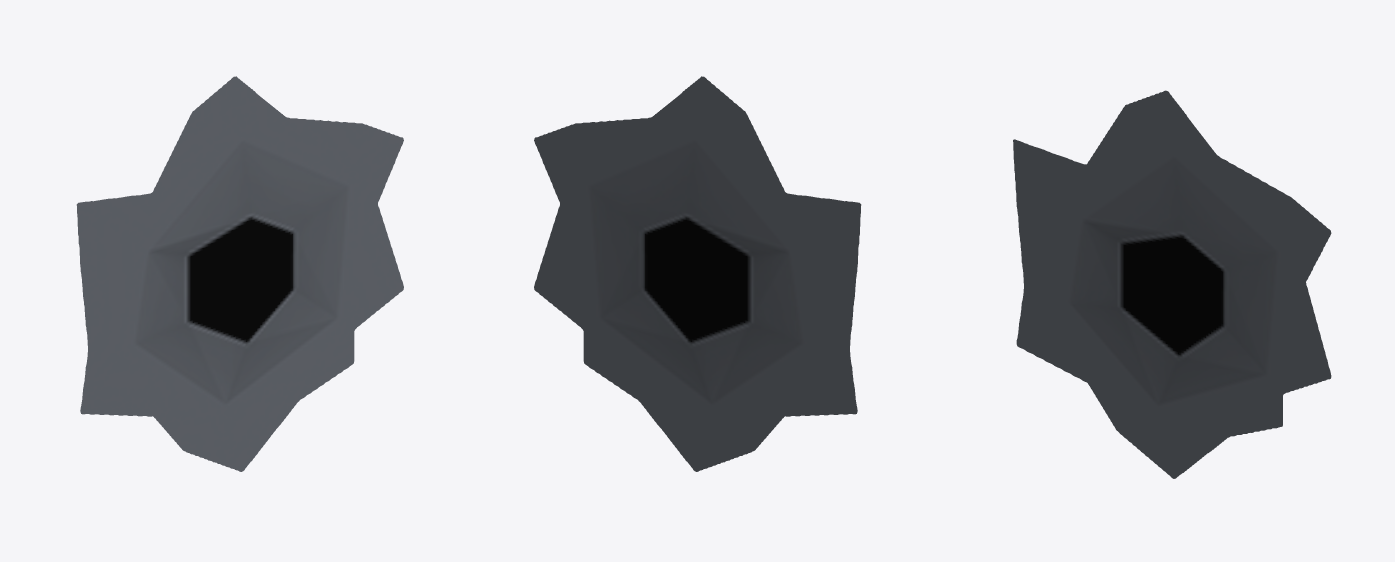
Rendered from SM_Prop_Decal_Metal_01.fbx.
3 views of the same model, side by side, from view 1: azimuth 30°, elevation 25°; view 2: azimuth 150°, elevation 25°; view 3: azimuth 330°, elevation 25° (orthographic). The views are drawn at different scales.
Parts seen in each view (by area): view 1: SM_Prop_Decal_Metal_01; view 2: SM_Prop_Decal_Metal_01; view 3: SM_Prop_Decal_Metal_01.
Boxes of the visible parts, bbox=[...] form: SM_Prop_Decal_Metal_01: bbox=[76, 76, 403, 471]; SM_Prop_Decal_Metal_01: bbox=[534, 76, 861, 471]; SM_Prop_Decal_Metal_01: bbox=[1013, 90, 1331, 478].
Bounding box in the file's own units: 16.85 × 16.27 × 0.
